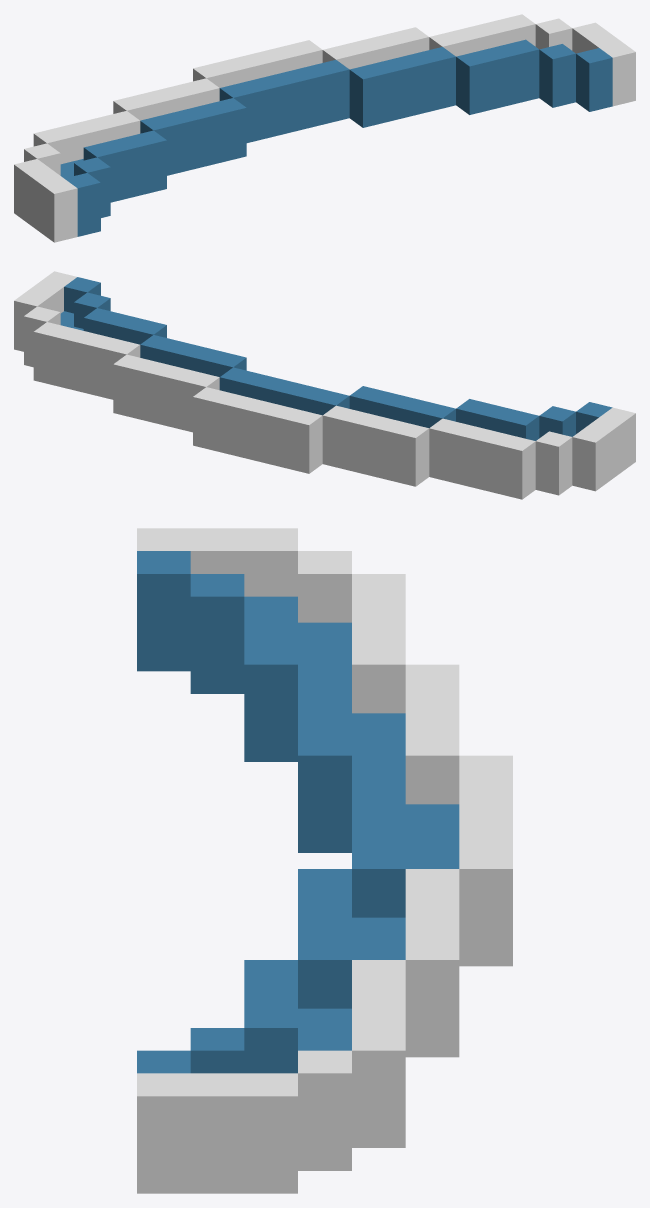
File: волна 6.obj
3 renders of one model, top to bottom at view 1: azimuth 30°, elevation 25°; view 2: azimuth 150°, elevation 25°; view 3: azimuth 270°, elevation 25°, orthographic. The views are drawn at different scales.
Bounding box in the file's own units: 2.5 × 0.2 × 0.7.
1 material, 1 textured.
